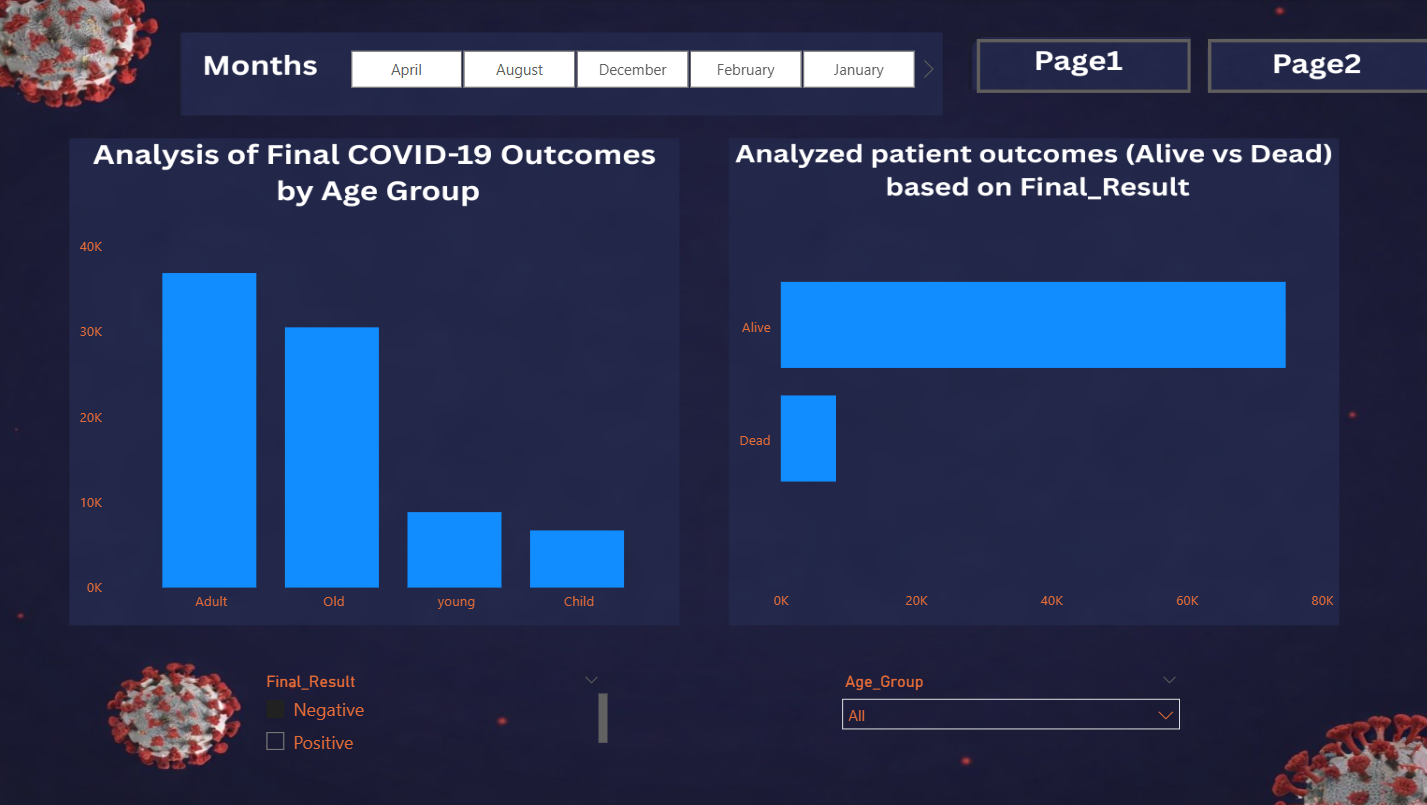

Layout of this report page (visuals, bound fields, positions):
{"tool":"powerbi","page":{"name":"Page 3","canvas":[1280,720],"ordinal":2},"visuals":[{"type":"columnChart","fields":{"Category":["CovidData_Cleaned.Age_Group"],"Y":["CountNonNull(CovidData_Cleaned.Final_Result)"]},"box":[67.9,205.9,542.1,348.4],"z":0},{"type":"slicer","fields":{"Values":["CovidData_Cleaned.Month Name"]},"box":[288.2,38.4,551.6,46.7],"z":1000},{"type":"actionButton","box":[871.4,35.7,190.7,48],"z":2000},{"type":"actionButton","box":[1074.9,35.6,190.2,47.9],"z":3000},{"type":"slicer","fields":{"Values":["CovidData_Cleaned.Final_Result"]},"box":[226,594.4,321.7,84.6],"z":4000},{"type":"barChart","fields":{"Category":["CovidData_Cleaned.Status"],"Y":["CountNonNull(CovidData_Cleaned.Age_Group)"]},"box":[651.8,148.2,542,406.2],"z":5000},{"type":"slicer","fields":{"Values":["CovidData_Cleaned.Age_Group"]},"box":[741,594.2,321.1,85.1],"z":6000}]}

Visuals, with their boxes in screenshot pixels (x1, y1, x2, y2), scaled from the page's 1280x720 canvas onto the 1427x805 screenshot:
columnChart - CovidData_Cleaned.Age_Group x CountNonNull(CovidData_Cleaned.Final_Result): pyautogui.locateOnScreen(76, 230, 680, 620)
slicer - CovidData_Cleaned.Month Name: pyautogui.locateOnScreen(321, 43, 936, 95)
actionButton: pyautogui.locateOnScreen(971, 40, 1184, 94)
actionButton: pyautogui.locateOnScreen(1198, 40, 1410, 93)
slicer - CovidData_Cleaned.Final_Result: pyautogui.locateOnScreen(252, 665, 611, 759)
barChart - CovidData_Cleaned.Status x CountNonNull(CovidData_Cleaned.Age_Group): pyautogui.locateOnScreen(727, 166, 1331, 620)
slicer - CovidData_Cleaned.Age_Group: pyautogui.locateOnScreen(826, 664, 1184, 759)
